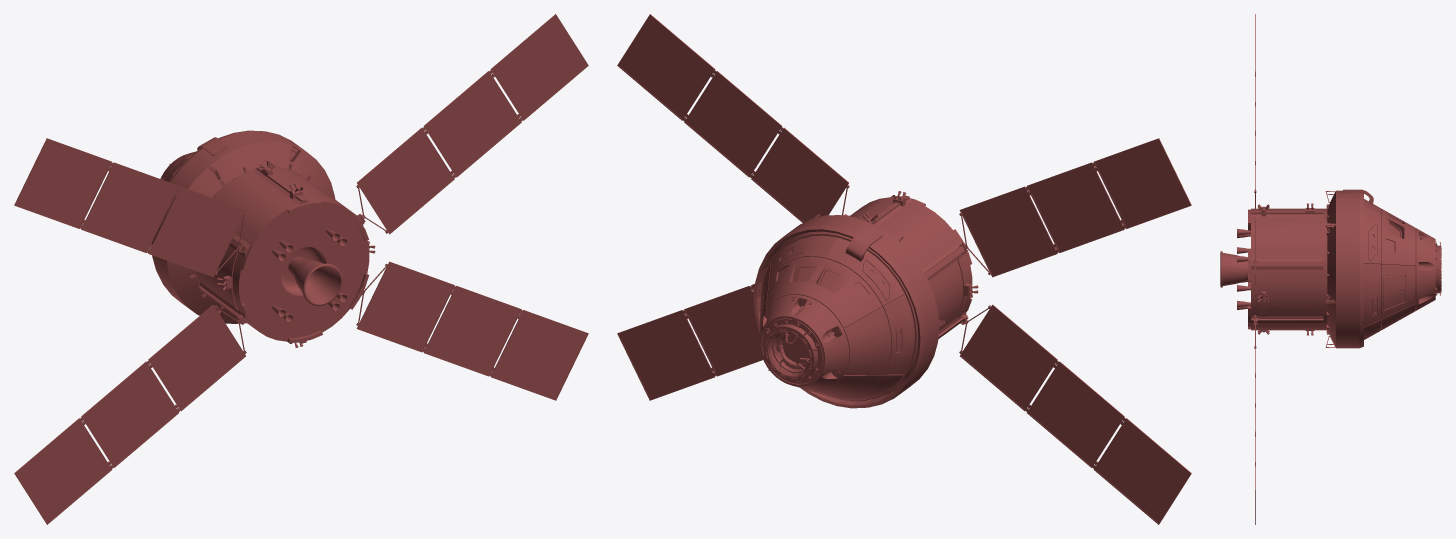
Rendered from Orion.FBX.
3 views of the same model, side by side, from view 1: azimuth 30°, elevation 25°; view 2: azimuth 150°, elevation 25°; view 3: azimuth 270°, elevation 25° (orthographic). The views are drawn at different scales.
Parts seen in each view (by area): view 1: Orion_Back, Orion_Mid, Orion_SolarMainHinge01_Panel03, Orion_SolarMainHinge02_Panel03, Orion_SolarMainHinge04_Panel01, Orion_SolarMainHinge04_Panel03, Orion_SolarMainHinge02_Panel02, Orion_SolarMainHinge04_Panel02, Orion_SolarMainHinge03_Panel01, Orion_SolarMainHinge02_Panel01, Orion_SolarMainHinge03_Panel02, Orion_SolarMainHinge01_Panel02 (+3 smaller); view 2: Orion_Main, Orion_Back, Orion_Mid, Orion_SolarMainHinge01_Panel03, Orion_SolarMainHinge02_Panel02, Orion_SolarMainHinge02_Panel03, Orion_SolarMainHinge04_Panel03, Orion_SolarMainHinge04_Panel02, Orion_SolarMainHinge02_Panel01, Orion_SolarMainHinge01_Panel01, Orion_SolarMainHinge01_Panel02, Orion_SolarMainHinge03_Panel03 (+2 smaller); view 3: Orion_Back, Orion_Main, Orion_Mid, Orion_ConnectorOuterRing01.
Boxes of the visible parts, x1=… form: Orion_Back: x1=195, y1=167, x2=369, y2=343; Orion_Mid: x1=151, y1=130, x2=335, y2=323; Orion_SolarMainHinge01_Panel03: x1=14, y1=138, x2=112, y2=228; Orion_SolarMainHinge02_Panel03: x1=14, y1=418, x2=112, y2=524; Orion_SolarMainHinge04_Panel01: x1=357, y1=127, x2=454, y2=234; Orion_SolarMainHinge04_Panel03: x1=490, y1=14, x2=588, y2=120; Orion_SolarMainHinge02_Panel02: x1=81, y1=361, x2=178, y2=467; Orion_SolarMainHinge04_Panel02: x1=424, y1=71, x2=521, y2=177; Orion_SolarMainHinge03_Panel01: x1=356, y1=261, x2=454, y2=352; Orion_SolarMainHinge02_Panel01: x1=148, y1=304, x2=245, y2=411; Orion_SolarMainHinge03_Panel02: x1=423, y1=286, x2=521, y2=376; Orion_SolarMainHinge01_Panel02: x1=81, y1=162, x2=179, y2=252; Orion_Main: x1=759, y1=226, x2=918, y2=401; Orion_Back: x1=848, y1=195, x2=972, y2=338; Orion_Mid: x1=753, y1=214, x2=945, y2=408; Orion_SolarMainHinge01_Panel03: x1=1093, y1=138, x2=1191, y2=228; Orion_SolarMainHinge02_Panel02: x1=1027, y1=361, x2=1124, y2=467; Orion_SolarMainHinge02_Panel03: x1=1093, y1=418, x2=1191, y2=524; Orion_SolarMainHinge04_Panel03: x1=617, y1=14, x2=715, y2=120; Orion_SolarMainHinge04_Panel02: x1=684, y1=71, x2=781, y2=177; Orion_SolarMainHinge02_Panel01: x1=960, y1=304, x2=1057, y2=411; Orion_SolarMainHinge01_Panel01: x1=959, y1=186, x2=1057, y2=277; Orion_SolarMainHinge01_Panel02: x1=1026, y1=162, x2=1124, y2=252; Orion_SolarMainHinge03_Panel03: x1=617, y1=310, x2=715, y2=400; Orion_Back: x1=1220, y1=208, x2=1325, y2=330; Orion_Main: x1=1342, y1=189, x2=1441, y2=339; Orion_Mid: x1=1325, y1=190, x2=1363, y2=348; Orion_ConnectorOuterRing01: x1=1435, y1=241, x2=1441, y2=295.
Size of the model in its own units: 1756 by 1129 by 727.
